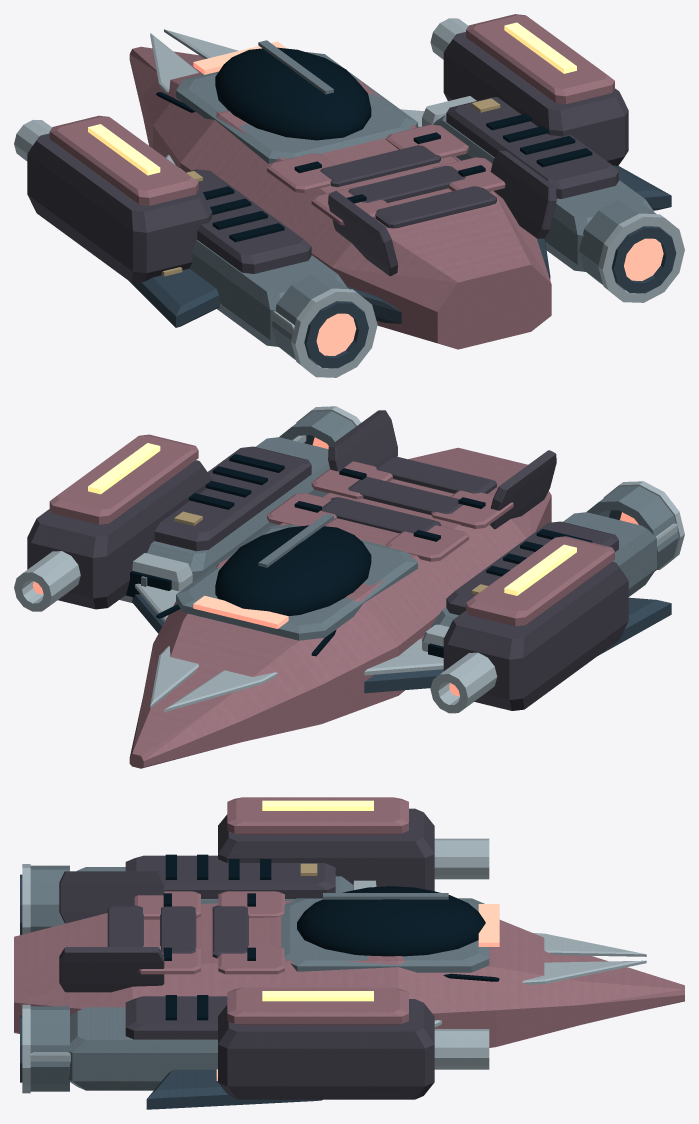
Rendered from cruiser.glb.
3 views of the same model, one above another, from view 1: azimuth 30°, elevation 25°; view 2: azimuth 150°, elevation 25°; view 3: azimuth 270°, elevation 25° (orthographic). The views are drawn at different scales.
Visible parts, largest first — view 1: _MeshInstance3D_378; view 2: _MeshInstance3D_378; view 3: _MeshInstance3D_378.
Boxes of the visible parts, x1,y1,x2,y2 form: _MeshInstance3D_378: [14, 14, 684, 377]; _MeshInstance3D_378: [14, 406, 684, 768]; _MeshInstance3D_378: [14, 797, 684, 1109].
Size of the model in its own units: 0.33 by 0.0922 by 0.4128.
1 material, 1 textured.
